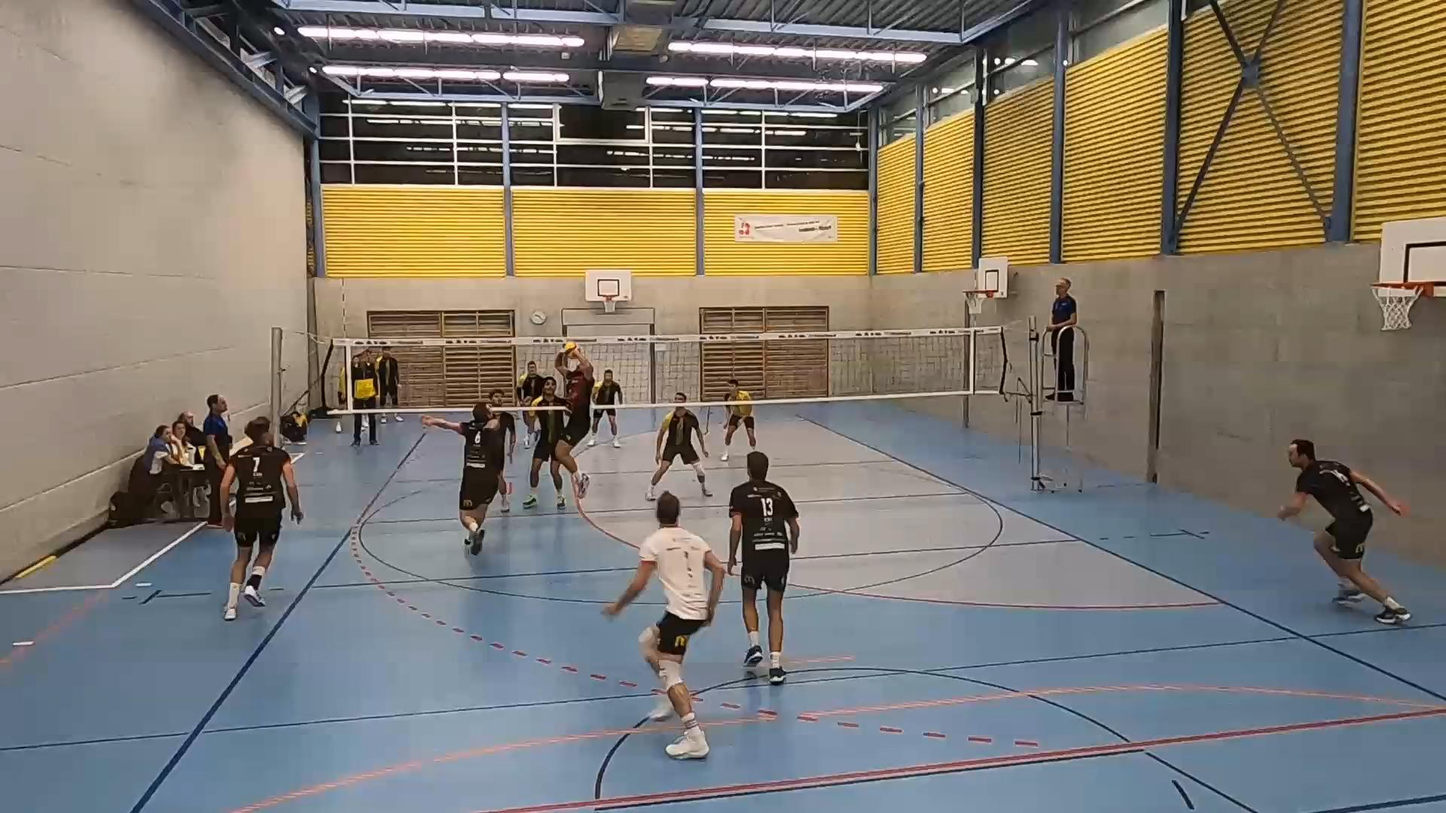alzata: (555, 346, 599, 510)
